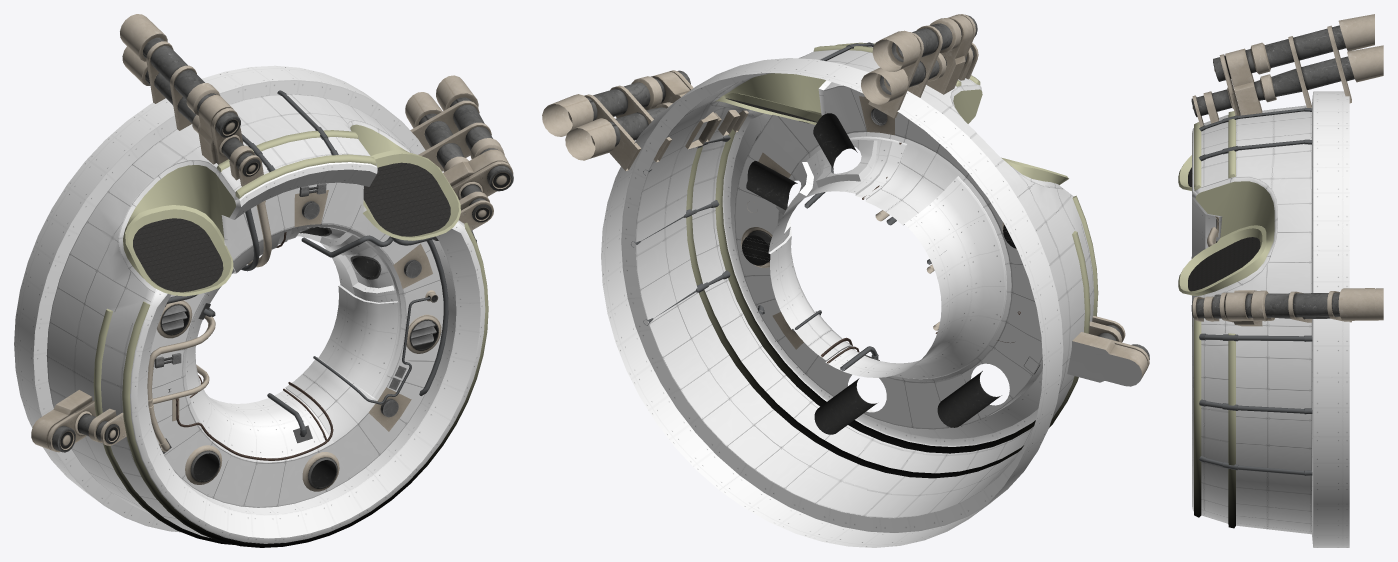
The model's file is StreetTunnel.fbx.
3 views of the same model, side by side, from view 1: azimuth 30°, elevation 25°; view 2: azimuth 150°, elevation 25°; view 3: azimuth 270°, elevation 25° (orthographic). The views are drawn at different scales.
Visible parts, largest first — view 1: TunnelEdgePanel, TunnelFrontPanel, TunnelFeatures, TunnelPlastic, TunnelFlooring, TunnelPipes; view 2: TunnelFrontPanel, TunnelEdgePanel, TunnelFeatures, TunnelPlastic, TunnelPipes; view 3: TunnelFrontPanel, TunnelEdgePanel, TunnelFeatures, TunnelPlastic, TunnelPipes, TunnelFlooring.
Boxes of the visible parts, box(x1,y1,x2,y2) form: TunnelEdgePanel: box(14, 65, 485, 543); TunnelFrontPanel: box(46, 94, 464, 537); TunnelFeatures: box(31, 14, 513, 491); TunnelPlastic: box(93, 124, 488, 547); TunnelFlooring: box(133, 162, 450, 292); TunnelPipes: box(147, 90, 476, 460); TunnelFrontPanel: box(635, 46, 1094, 518); TunnelEdgePanel: box(601, 58, 1073, 547); TunnelFeatures: box(542, 14, 1149, 434); TunnelPlastic: box(686, 42, 1098, 478); TunnelPipes: box(631, 42, 1020, 370); TunnelFrontPanel: box(1195, 105, 1311, 534); TunnelEdgePanel: box(1192, 91, 1349, 547); TunnelFeatures: box(1191, 14, 1383, 326); TunnelPlastic: box(1178, 111, 1274, 528); TunnelPipes: box(1199, 107, 1312, 475); TunnelFlooring: box(1188, 167, 1260, 291).
Bounding box in the file's own units: 1774 × 1711 × 668.
